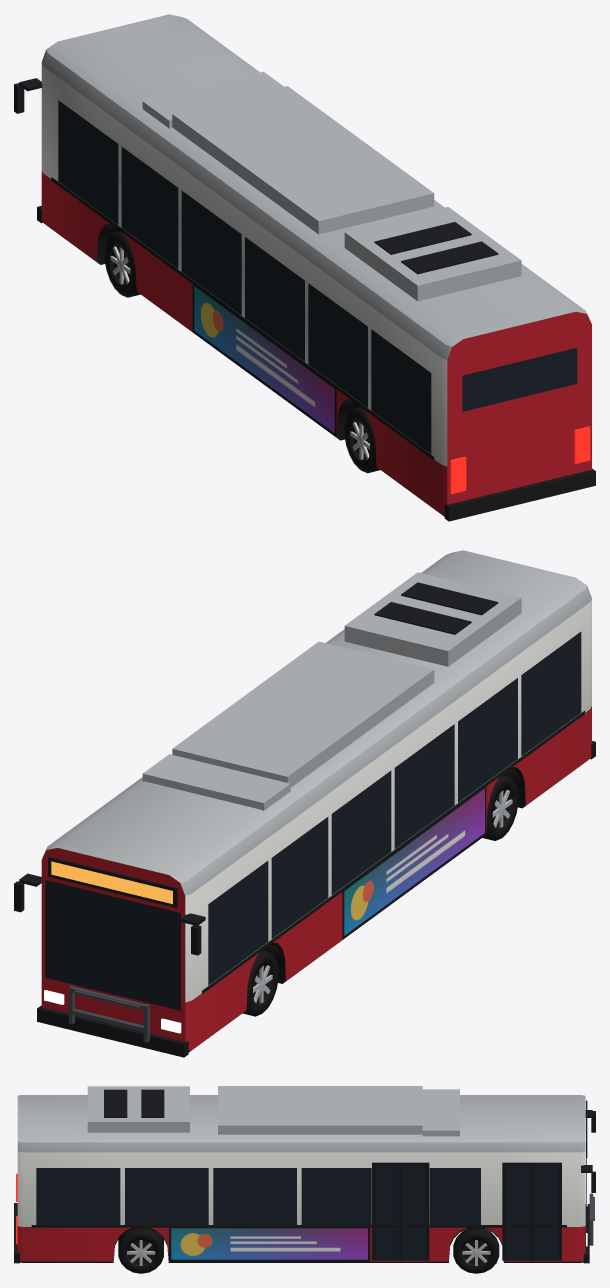
The model's file is muni-bus.glb.
3 renders of one model, top to bottom at view 1: azimuth 30°, elevation 25°; view 2: azimuth 150°, elevation 25°; view 3: azimuth 270°, elevation 25°, orthographic. The views are drawn at different scales.
Parts seen in each view (by area): view 1: body, livery_panel, wheel_FL, wheel_RL; view 2: body, livery_panel, wheel_RL, wheel_FL; view 3: body, livery_panel, wheel_RR, wheel_FR.
Boxes of the visible parts, left/top/right/bottom form: body: left=14, top=14, right=595, bottom=521; livery_panel: left=194, top=286, right=334, bottom=432; wheel_FL: left=104, top=231, right=140, bottom=297; wheel_RL: left=344, top=407, right=379, bottom=473; body: left=14, top=550, right=595, bottom=1057; livery_panel: left=344, top=788, right=484, bottom=935; wheel_RL: left=482, top=775, right=518, bottom=840; wheel_FL: left=242, top=950, right=278, bottom=1016; body: left=14, top=1086, right=595, bottom=1263; livery_panel: left=171, top=1228, right=367, bottom=1259; wheel_RR: left=118, top=1227, right=163, bottom=1273; wheel_FR: left=453, top=1227, right=499, bottom=1273.
Size of the model in its own units: 3.19 by 3.48 by 12.5.
Materials: 12 (1 with a texture image).
